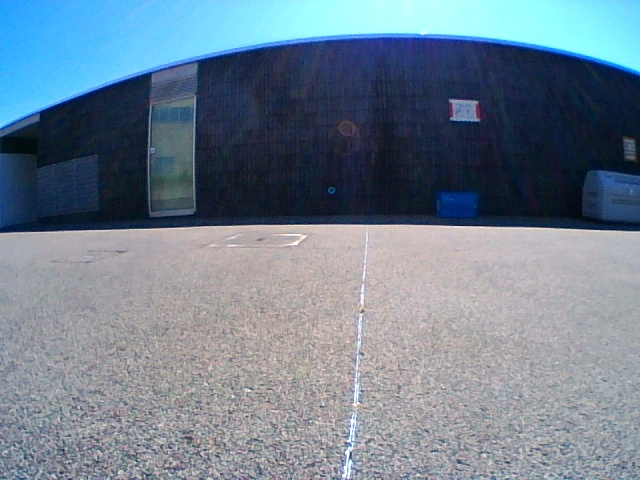blue_box: (436, 191, 476, 219)
